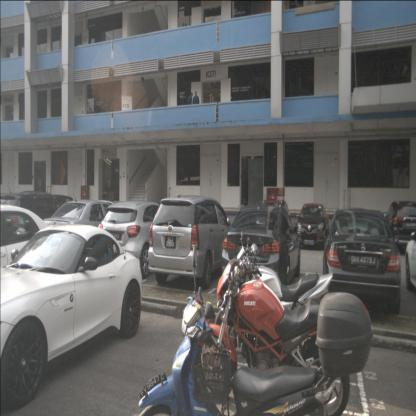human-pedestrian-adult: (192, 90, 200, 122), (186, 92, 193, 122)
vehicle-car: (0, 224, 143, 410), (148, 197, 239, 290), (322, 208, 400, 315), (0, 205, 69, 302), (221, 206, 300, 290), (98, 200, 175, 279), (0, 191, 78, 255), (43, 199, 130, 252), (382, 200, 415, 256), (294, 203, 329, 250), (257, 199, 291, 233), (405, 231, 415, 293)
vehicle-motorcycle: (138, 246, 372, 416), (193, 242, 350, 416), (214, 230, 333, 359)
